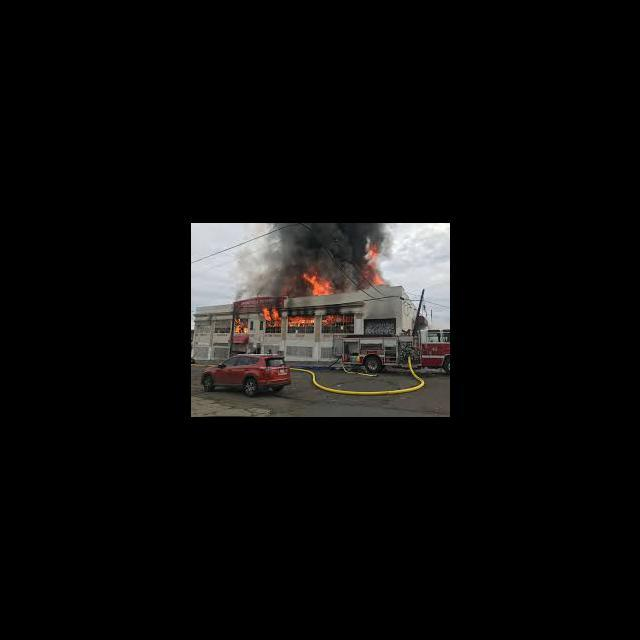Fire: (302, 268, 336, 296), (261, 306, 282, 329), (321, 314, 354, 326), (286, 314, 316, 327), (368, 240, 384, 262), (233, 317, 248, 333), (372, 269, 386, 286)
Smoke: (280, 223, 368, 265), (238, 224, 281, 298)
